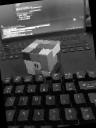rubik: (20, 36, 64, 78)
